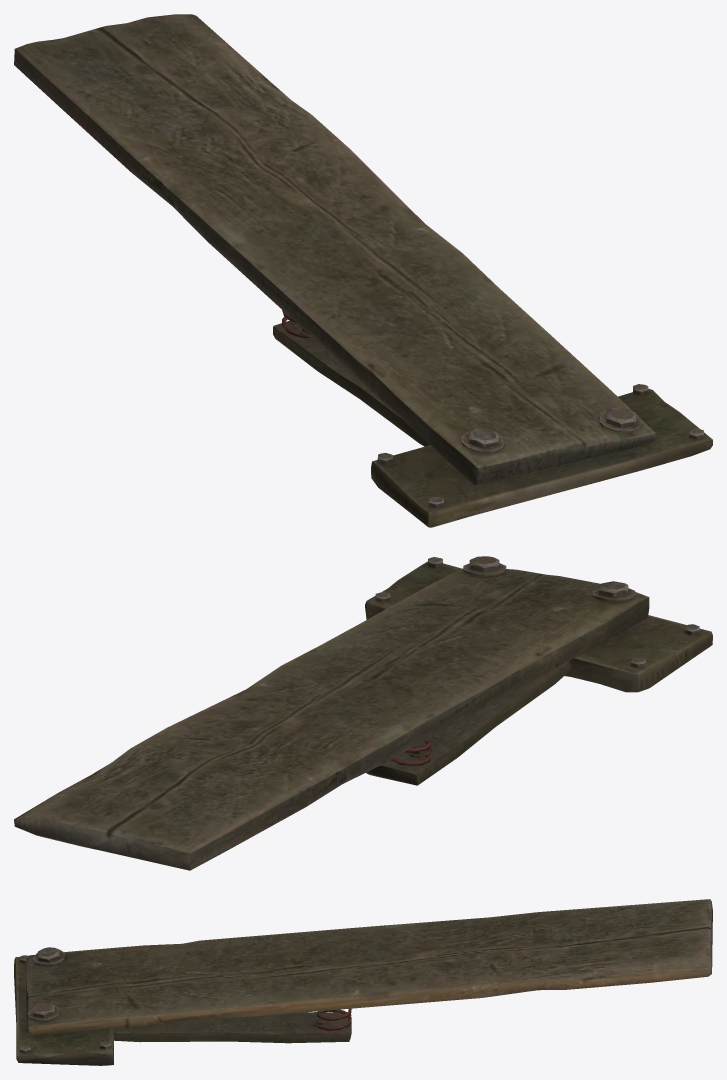
Rendered from plank.deployed.glb.
The picture shows the model from 3 angles, top to bottom: view 1: azimuth 30°, elevation 25°; view 2: azimuth 150°, elevation 25°; view 3: azimuth 270°, elevation 25°; orthographic projection. The views are drawn at different scales.
Visible parts, largest first — view 1: Naval_Imporvised_Plank_a_LOD0; view 2: Naval_Imporvised_Plank_a_LOD0; view 3: Naval_Imporvised_Plank_a_LOD0.
Boxes of the visible parts, x1,y1,x2,y2 form: Naval_Imporvised_Plank_a_LOD0: (14,14,712,527); Naval_Imporvised_Plank_a_LOD0: (14,556,712,870); Naval_Imporvised_Plank_a_LOD0: (14,899,712,1065).
Bounding box in the file's own units: 1.07 × 0.4518 × 3.04.
1 material, 1 textured.
